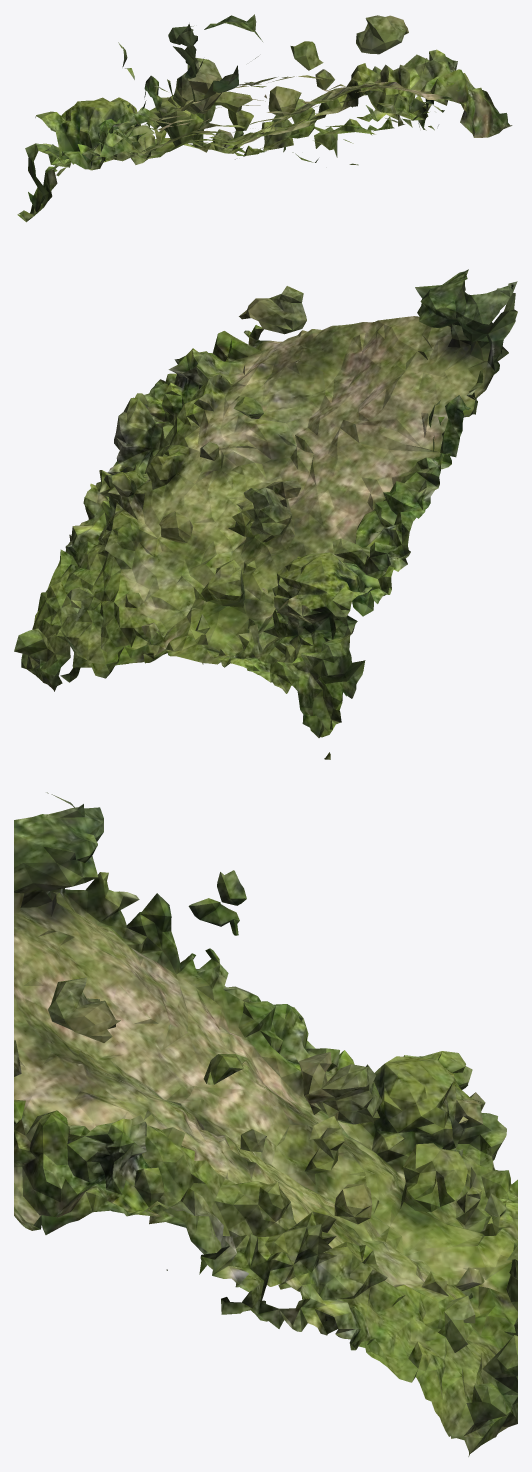
3 views of the same model, one above another, from view 1: azimuth 30°, elevation 25°; view 2: azimuth 150°, elevation 25°; view 3: azimuth 270°, elevation 25° (orthographic). The views are drawn at different scales.
Size of the model in its own units: 52.22 by 52.22 by 52.22.
Materials: 5 (5 with a texture image).
